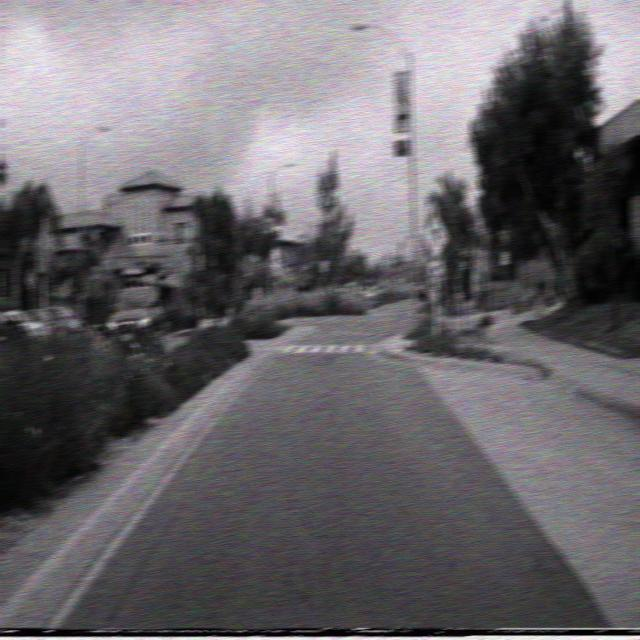pedestrianCrossing: (422, 211, 449, 260)
yield: (404, 231, 422, 255)
